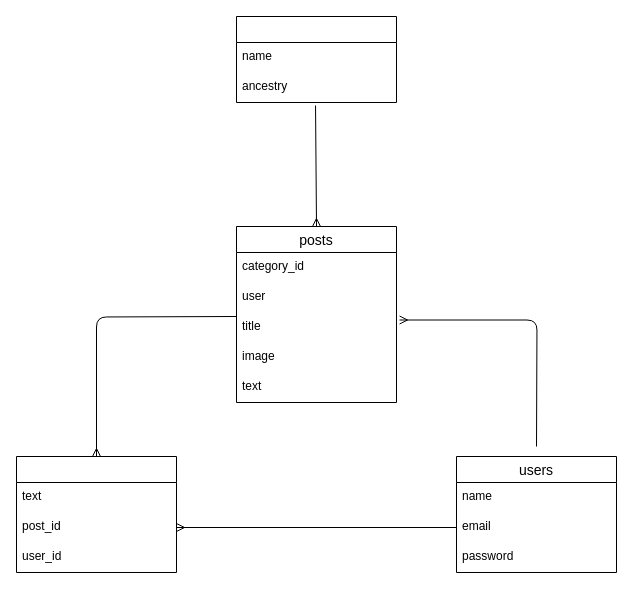
The diagram is 633 pixels wide and 589 high, and some of its shapes have lost their labels. The shapes that lost their labels are listed below. From the top down, each one's box as (x1, y1, x2, y2) in pixels, then its label:
(236, 16, 396, 102): categories
(16, 456, 176, 572): comments
